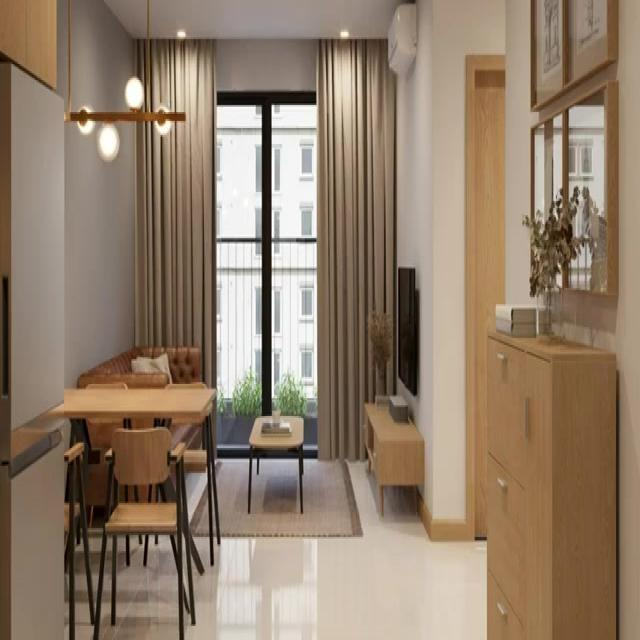door: (468, 54, 506, 536)
obstacle: (485, 328, 618, 638), (0, 59, 66, 638), (76, 343, 206, 510), (98, 426, 193, 640), (366, 398, 424, 519), (247, 412, 304, 514)
